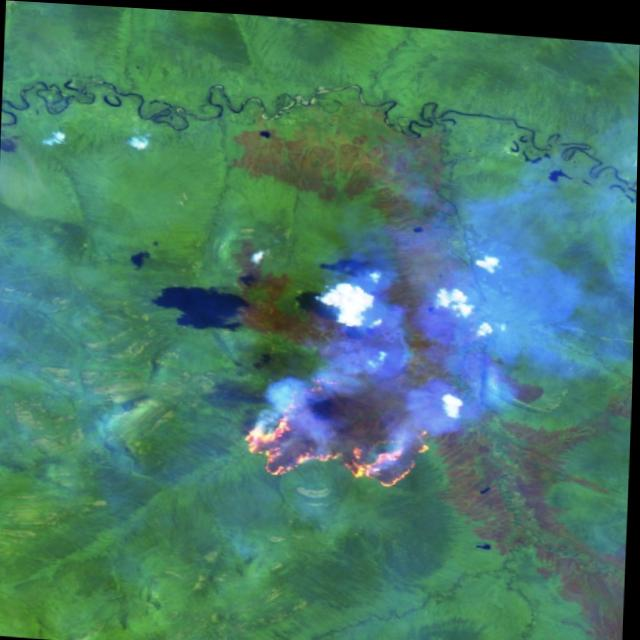fire: (235, 375, 439, 494)
